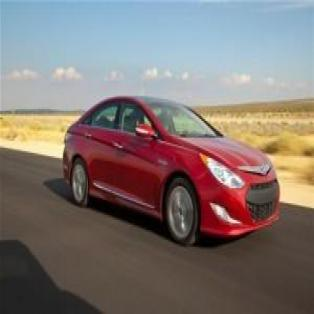Auto: (63, 96, 280, 247)
